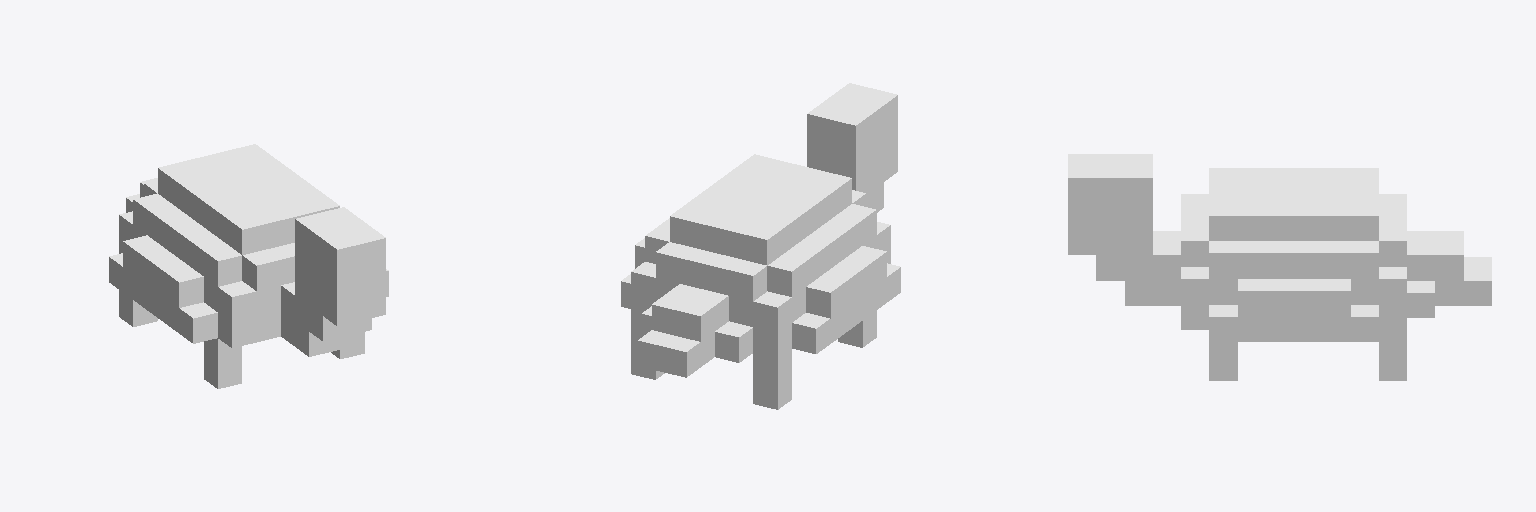
The model's file is Turtle_Enemy.obj.
The picture shows the model from 3 angles: view 1: azimuth 30°, elevation 25°; view 2: azimuth 150°, elevation 25°; view 3: azimuth 270°, elevation 25°; orthographic projection.
Size of the model in its own units: 8 by 7 by 15.